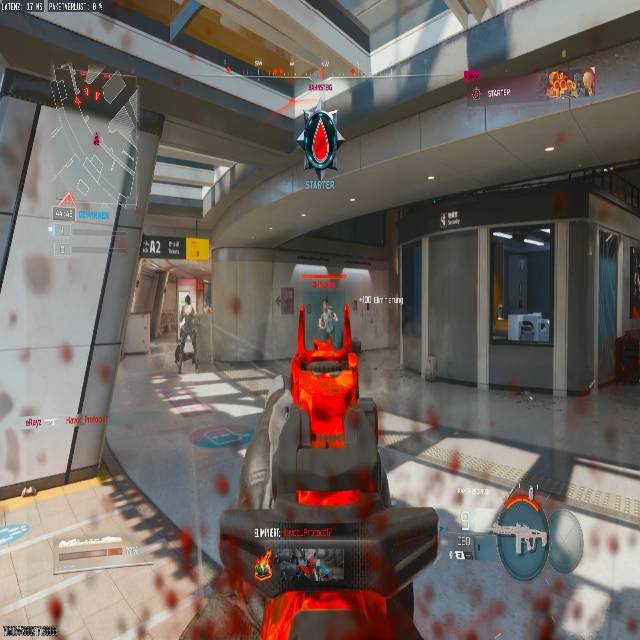head: (184, 294, 191, 304)
player: (298, 107, 340, 170), (175, 295, 198, 373), (315, 295, 341, 345), (582, 68, 595, 96)
